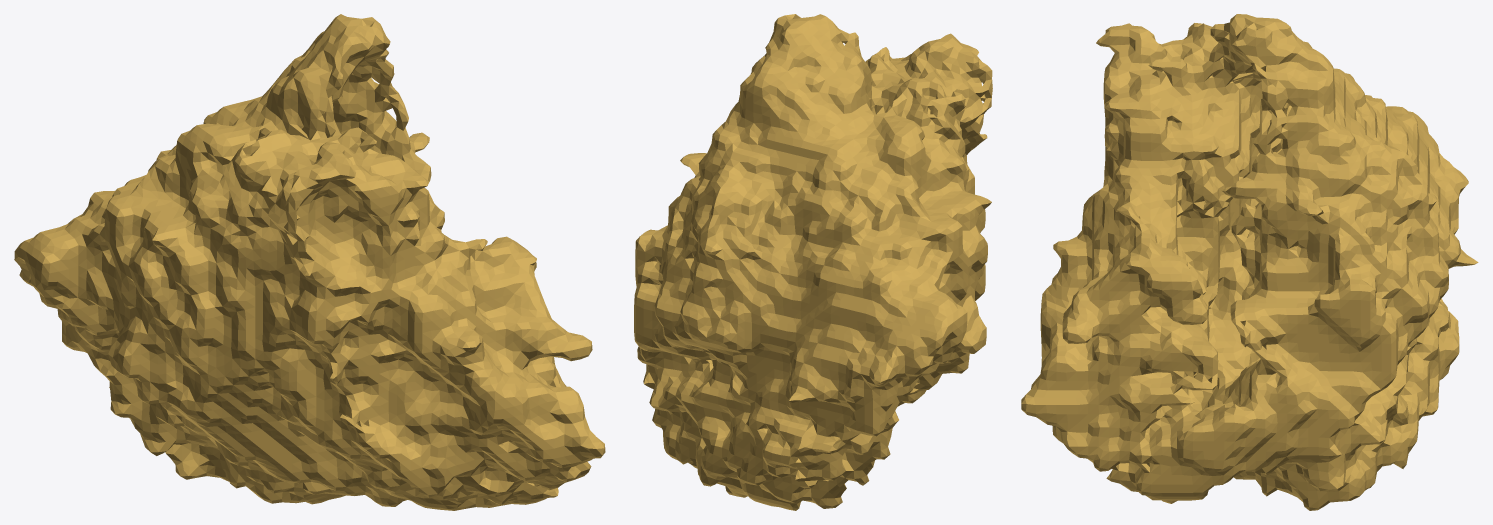
Rendered from aseg_008_Left-Cerebellum-Cortex.glb.
3 renders of one model, left to right at view 1: azimuth 30°, elevation 25°; view 2: azimuth 150°, elevation 25°; view 3: azimuth 270°, elevation 25°, orthographic. The views are drawn at different scales.
Bounding box in the file's own units: 42 × 48.83 × 43.6.
